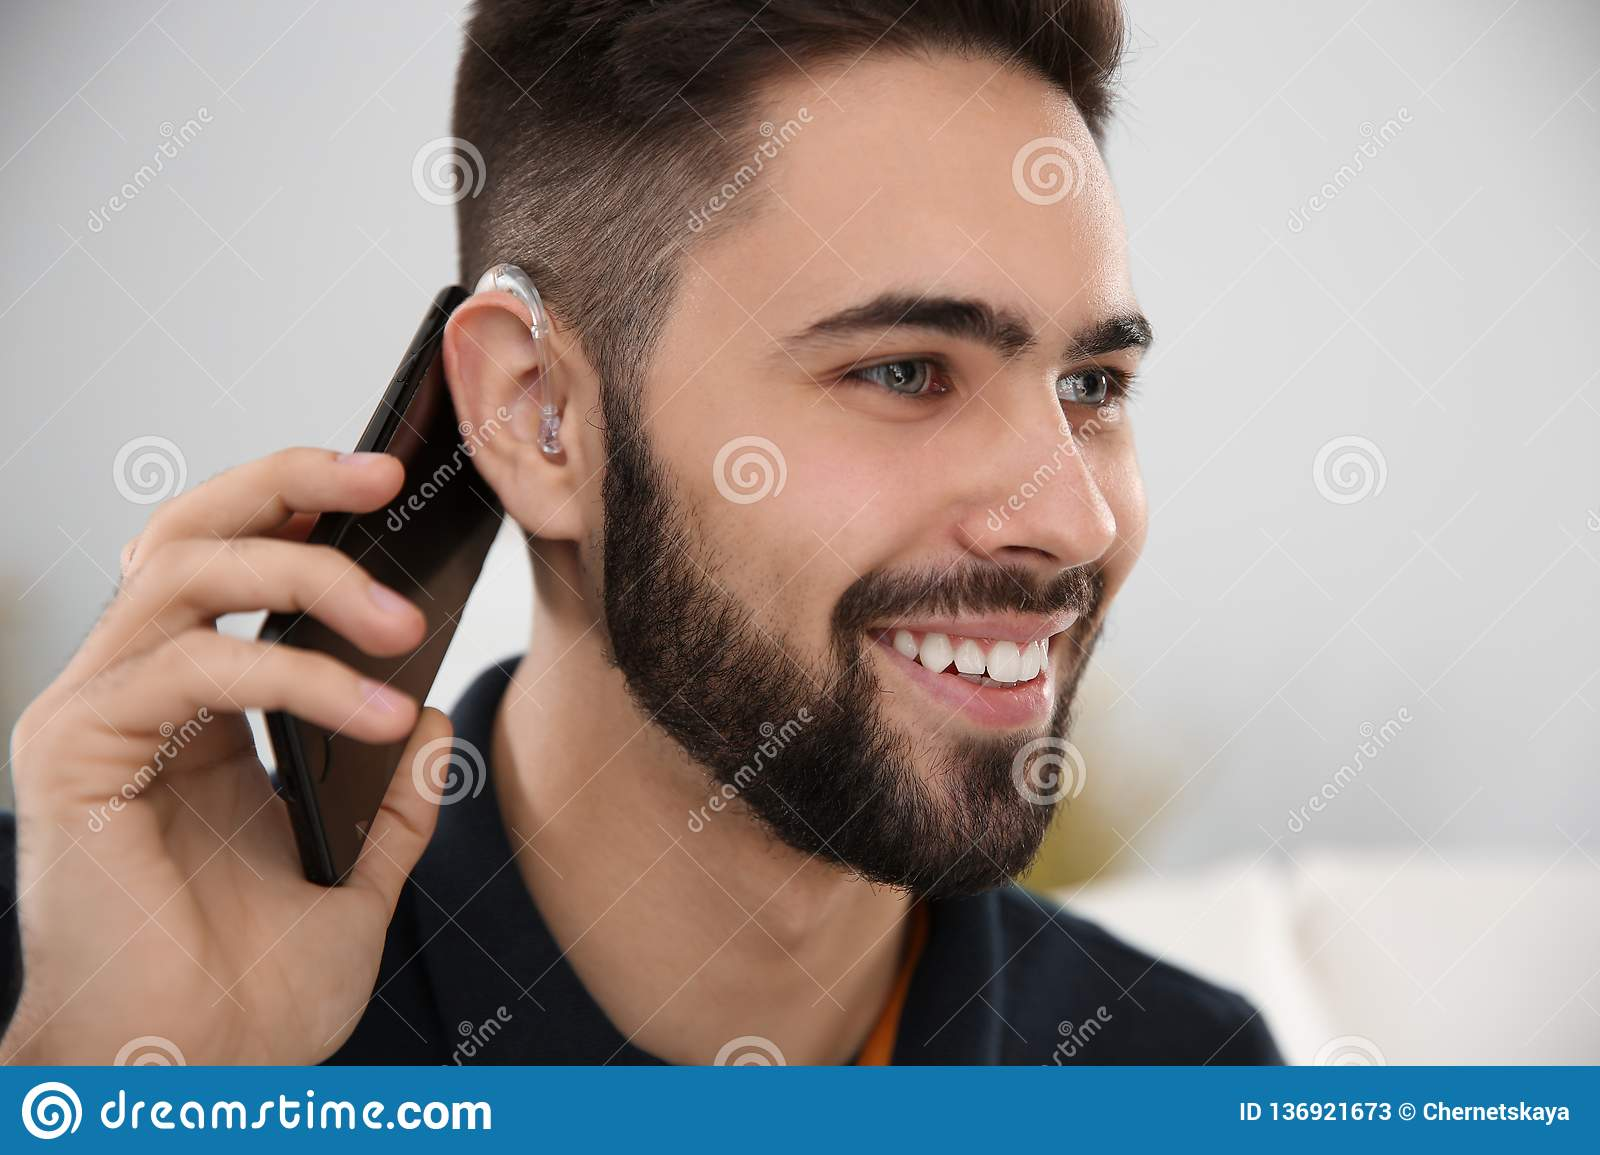phone: (257, 286, 508, 889)
talk: (10, 279, 1152, 1074)
